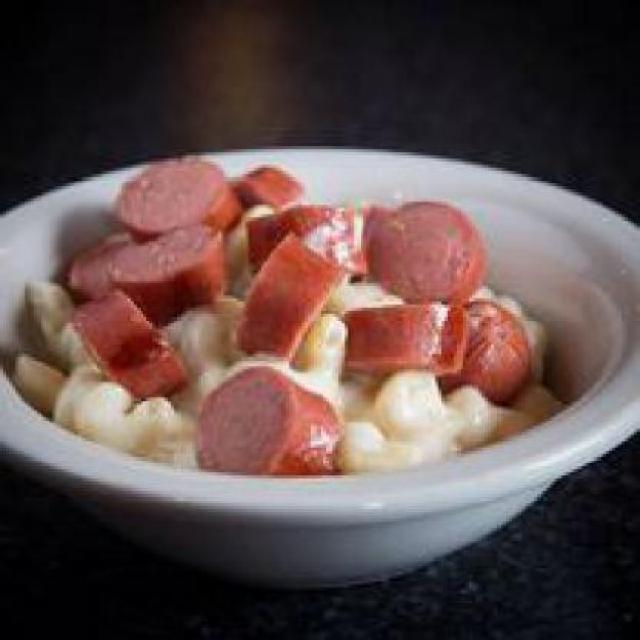hot dog: (81, 155, 525, 463)
macaroni and cheese: (12, 277, 534, 469)
